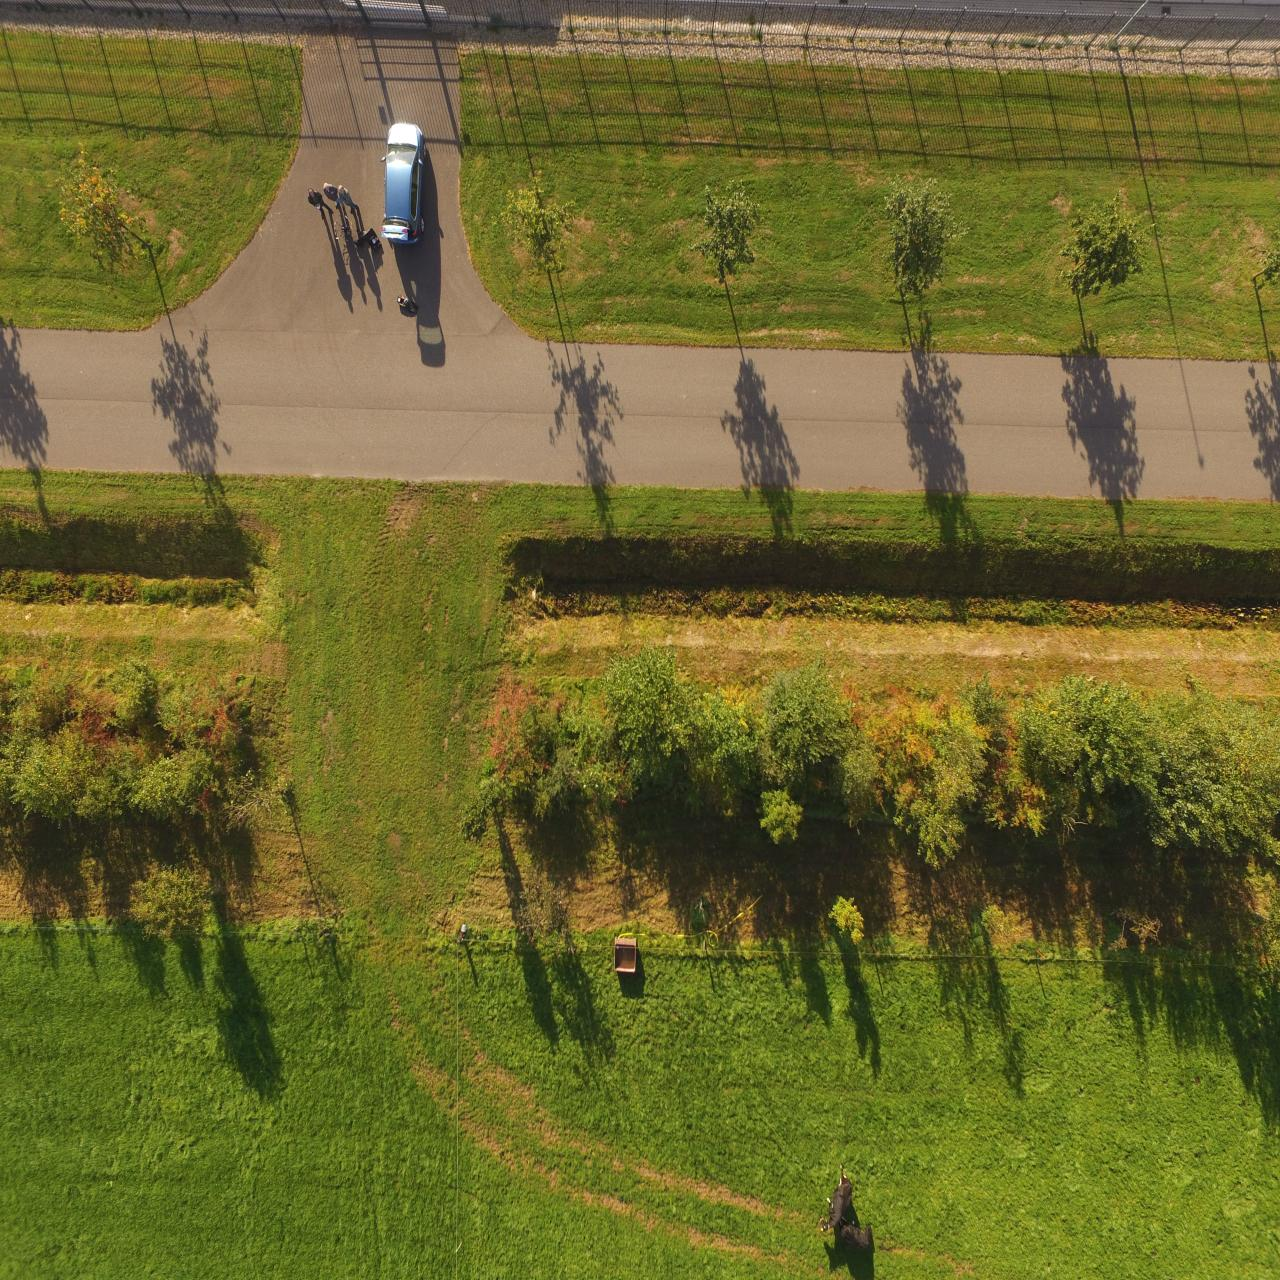cow: (813, 1158, 856, 1235), (833, 1213, 877, 1257)
